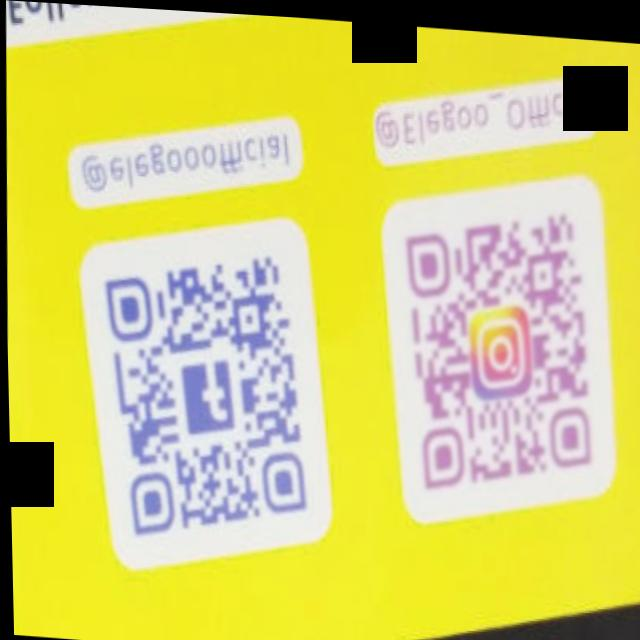QR_CODE: (80, 217, 320, 570), (380, 167, 608, 525)
